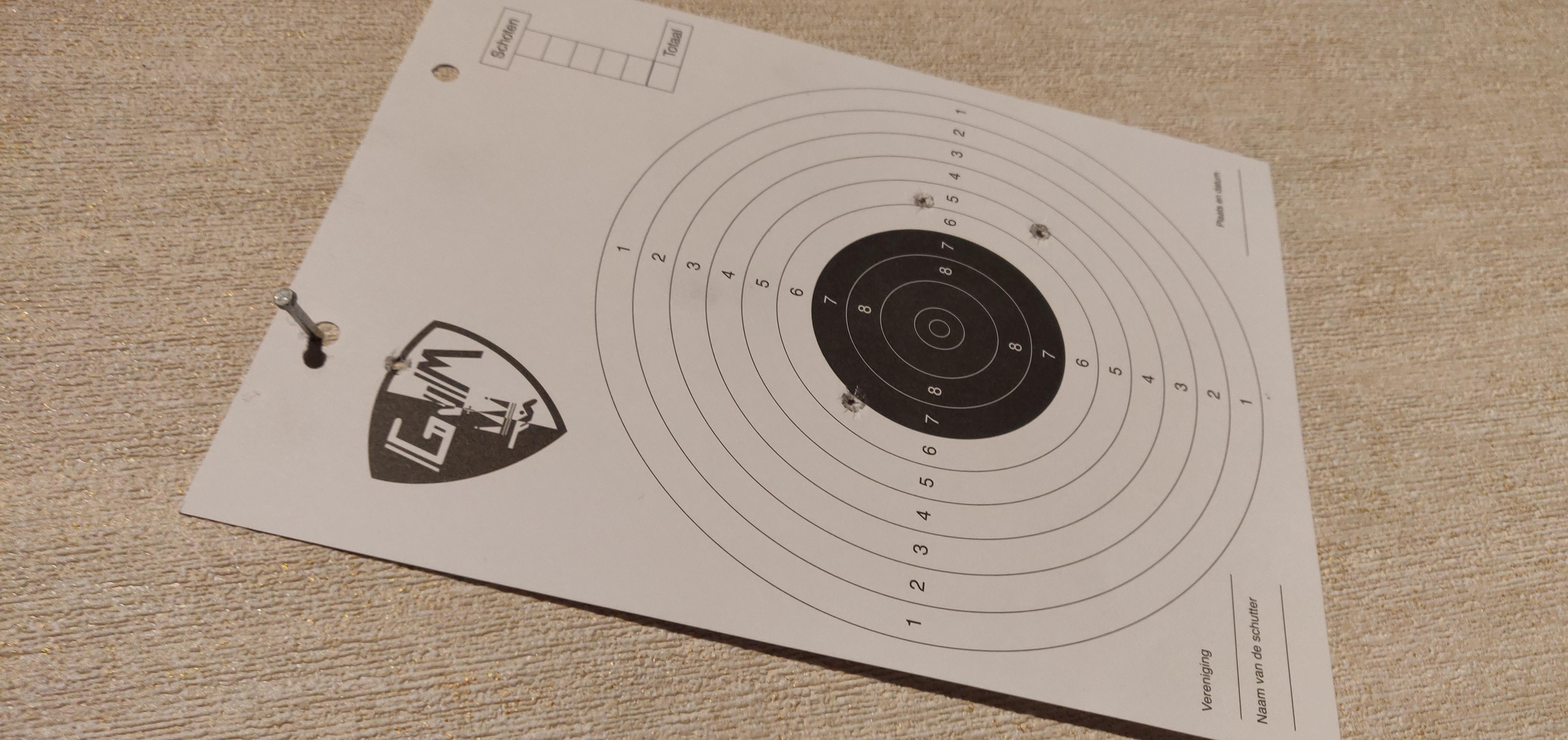hole: (687, 395, 754, 410), (768, 181, 826, 196), (1053, 485, 1097, 496), (1124, 431, 1161, 443)
